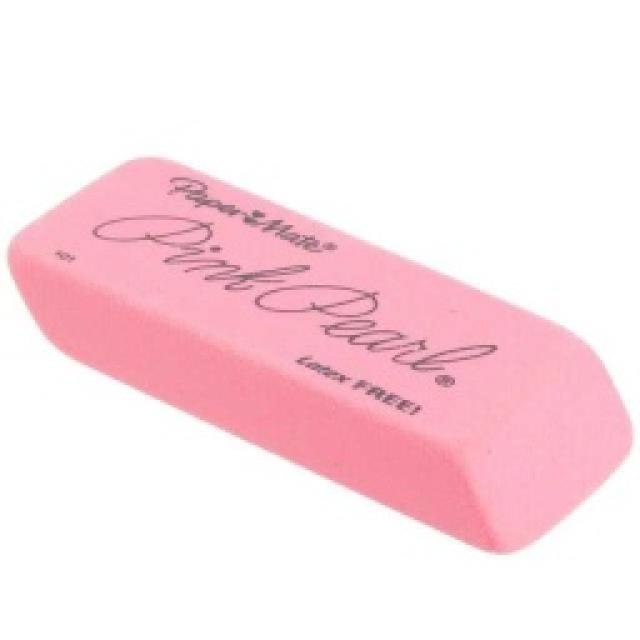Silgi: (6, 156, 637, 554)
